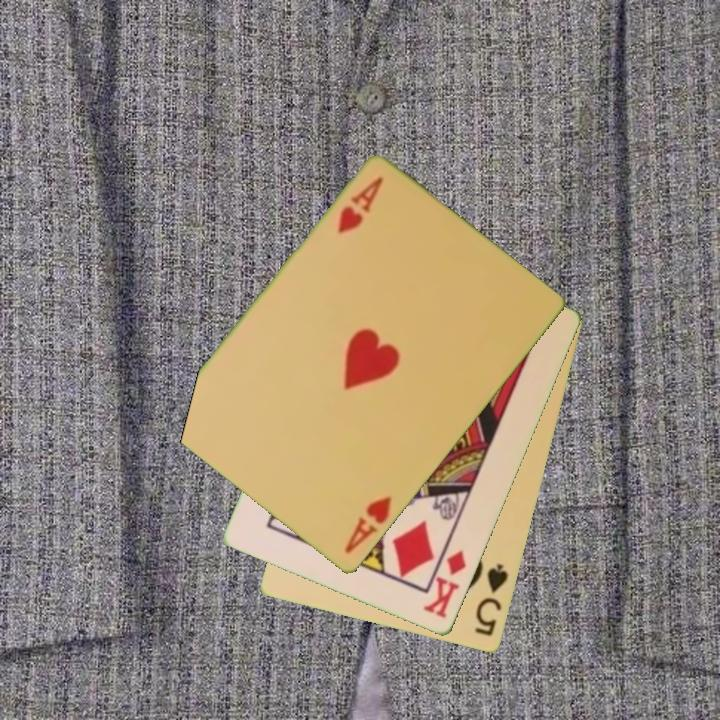5s: (472, 560, 512, 640)
Ah: (341, 493, 395, 557), (334, 173, 386, 237)
Kd: (420, 546, 470, 622)
